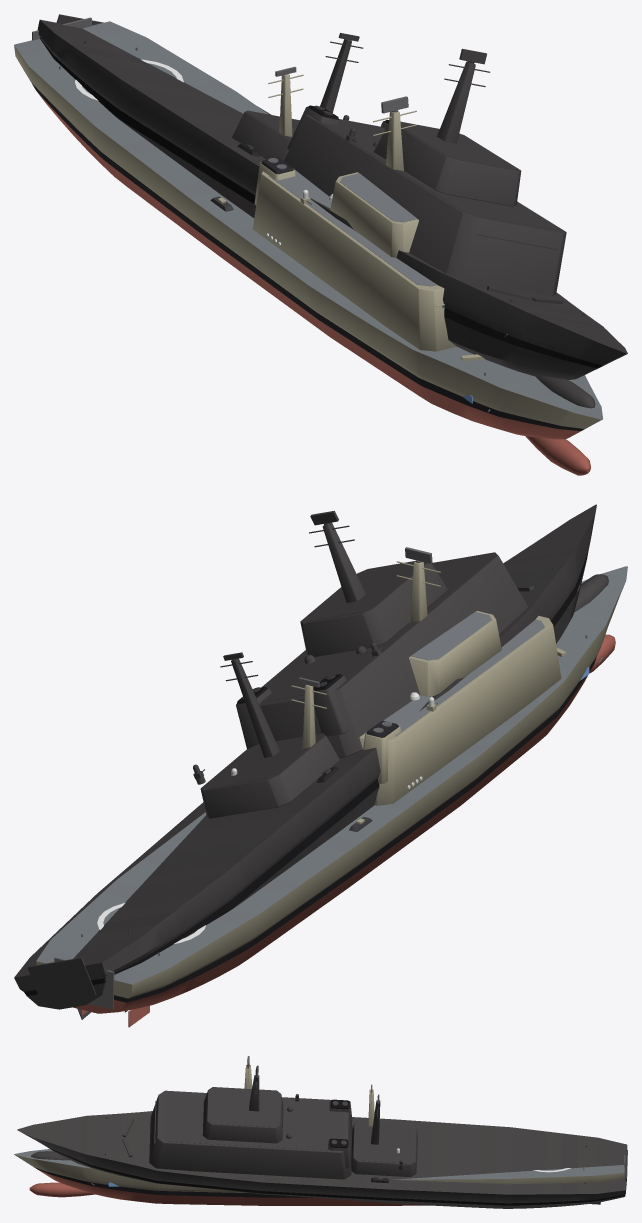
The model's file is landingShip__albion_class.glb.
The picture shows the model from 3 angles, top to bottom: view 1: azimuth 30°, elevation 25°; view 2: azimuth 150°, elevation 25°; view 3: azimuth 270°, elevation 25°; orthographic projection. The views are drawn at different scales.
Visible parts, largest first — view 1: Wreck, Hull_Mesh; view 2: Wreck, Hull_Mesh; view 3: Wreck, Hull_Mesh.
Boxes of the visible parts, x1,y1,x2,y2 form: Wreck: (37, 14, 627, 408); Hull_Mesh: (14, 17, 602, 475); Wreck: (14, 504, 608, 1019); Hull_Mesh: (36, 561, 627, 1027); Wreck: (17, 1065, 627, 1208); Hull_Mesh: (14, 1065, 625, 1205).
Size of what is drawn, in the model's own units: 34.46 by 50.86 by 184.
